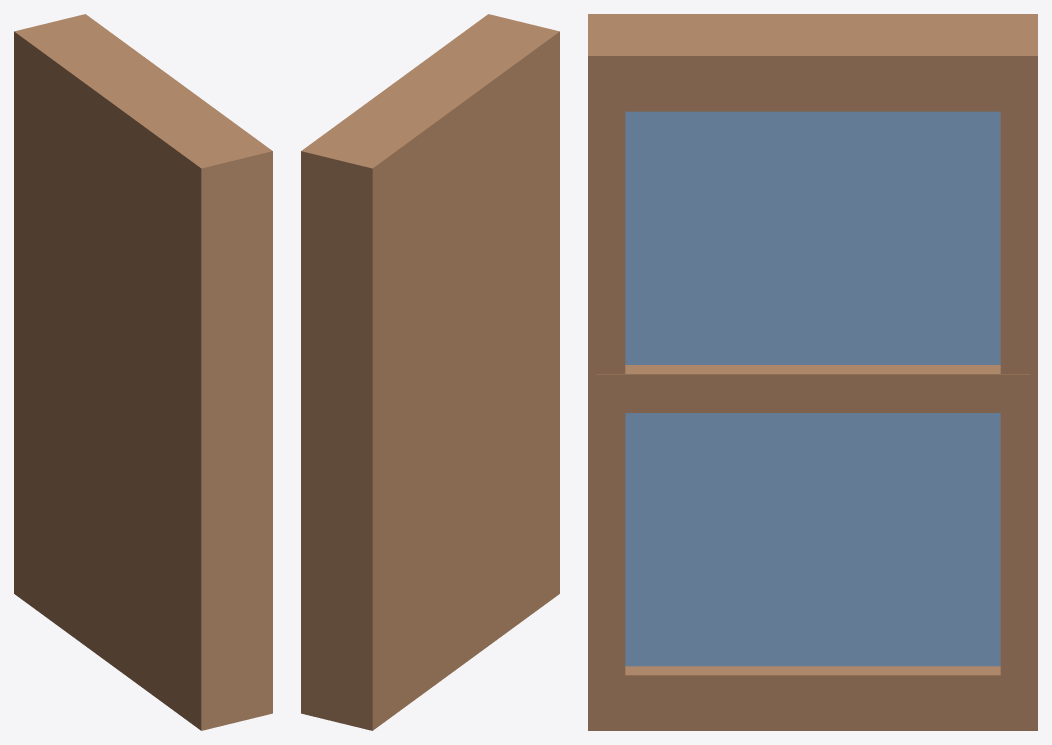
Rendered from window.fbx.
3 renders of one model, left to right at view 1: azimuth 30°, elevation 25°; view 2: azimuth 150°, elevation 25°; view 3: azimuth 270°, elevation 25°, orthographic. The views are drawn at different scales.
Visible parts, largest first — view 1: Cube; view 2: Cube; view 3: glass, Cube, Cube.001.
Boxes of the visible parts, x1,y1,x2,y2 form: Cube: (14,14,272,730); Cube: (301,14,559,730); glass: (625,111,1000,666); Cube: (588,14,1037,730); Cube.001: (596,365,1029,412).
Size of the model in its own units: 44.26 by 331 by 200.
